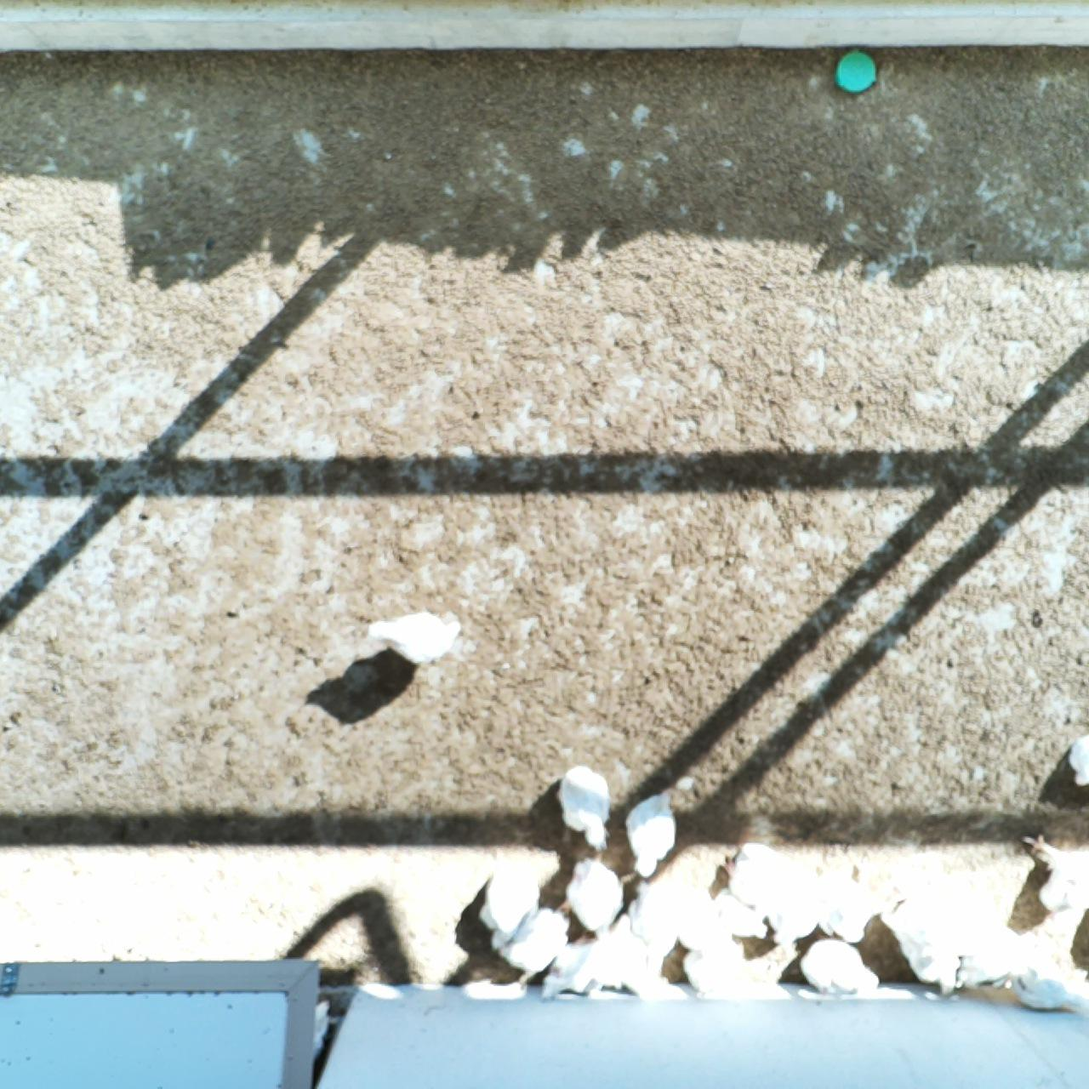chicken: (880, 901, 966, 995), (573, 909, 660, 993), (494, 907, 577, 990), (807, 856, 884, 945), (476, 851, 539, 950), (559, 854, 627, 943), (627, 867, 694, 956), (1018, 832, 1089, 915), (761, 850, 824, 942), (367, 607, 463, 667), (799, 936, 883, 1002), (680, 933, 758, 1003), (557, 759, 614, 850), (539, 934, 611, 1004), (623, 792, 678, 880), (667, 874, 730, 948), (1008, 961, 1086, 1016), (722, 837, 781, 905), (1064, 727, 1089, 794)
